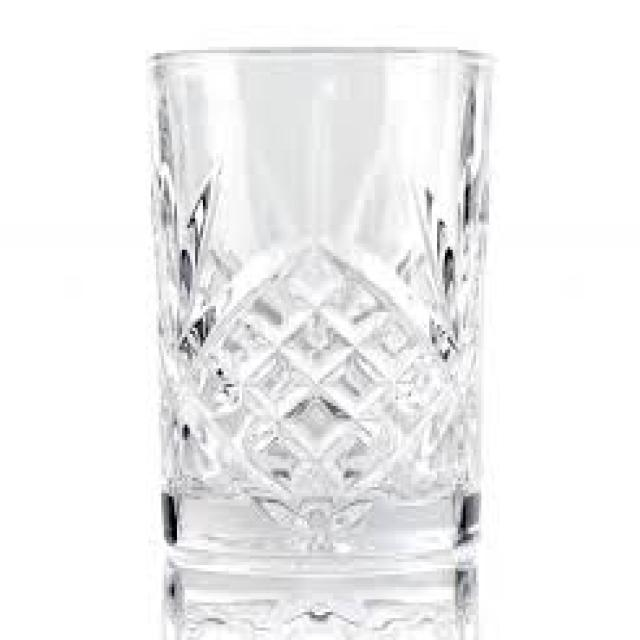glass: (146, 44, 494, 568)
